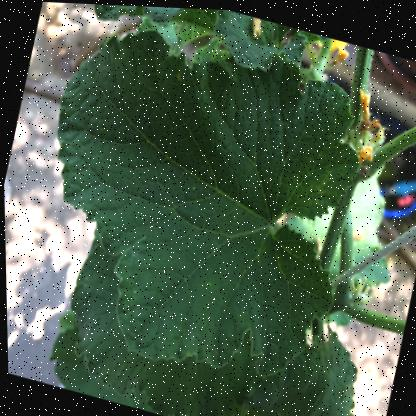Normal: (14, 5, 382, 401)
